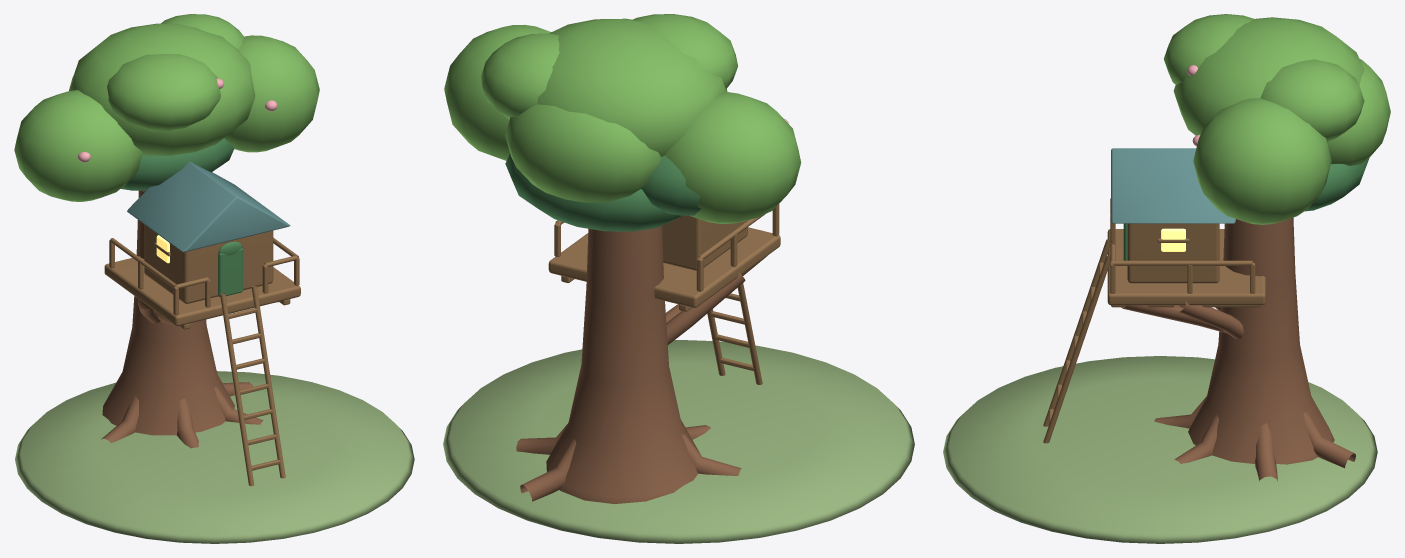
The model's file is decor-treehouse.glb.
The picture shows the model from 3 angles, left to right: view 1: azimuth 30°, elevation 25°; view 2: azimuth 150°, elevation 25°; view 3: azimuth 270°, elevation 25°; orthographic projection. The views are drawn at different scales.
Visible parts, largest first — view 1: treehouse-moss.007, treehouse-leaf.007, treehouse-wood.007, treehouse-bark.007, treehouse-tile.007, treehouse-deep.007; view 2: treehouse-moss.007, treehouse-leaf.007, treehouse-bark.007, treehouse-wood.007, treehouse-deep.007; view 3: treehouse-moss.007, treehouse-leaf.007, treehouse-bark.007, treehouse-wood.007, treehouse-tile.007, treehouse-deep.007.
Part boxes in pixels (x1,y1,x2,y2): treehouse-moss.007: [15, 371, 414, 543]; treehouse-leaf.007: [14, 14, 319, 201]; treehouse-wood.007: [104, 224, 300, 486]; treehouse-bark.007: [101, 190, 278, 448]; treehouse-tile.007: [127, 162, 290, 252]; treehouse-deep.007: [121, 138, 242, 297]; treehouse-moss.007: [443, 340, 914, 543]; treehouse-leaf.007: [444, 14, 801, 223]; treehouse-bark.007: [516, 226, 766, 503]; treehouse-wood.007: [548, 204, 780, 384]; treehouse-deep.007: [505, 153, 700, 231]; treehouse-moss.007: [943, 356, 1377, 543]; treehouse-leaf.007: [1164, 14, 1390, 224]; treehouse-bark.007: [1121, 217, 1355, 481]; treehouse-wood.007: [1043, 198, 1265, 443]; treehouse-tile.007: [1111, 148, 1235, 223]; treehouse-deep.007: [1123, 158, 1369, 260].
Bounding box in the file's own units: 6.6 × 7.15 × 6.8.
